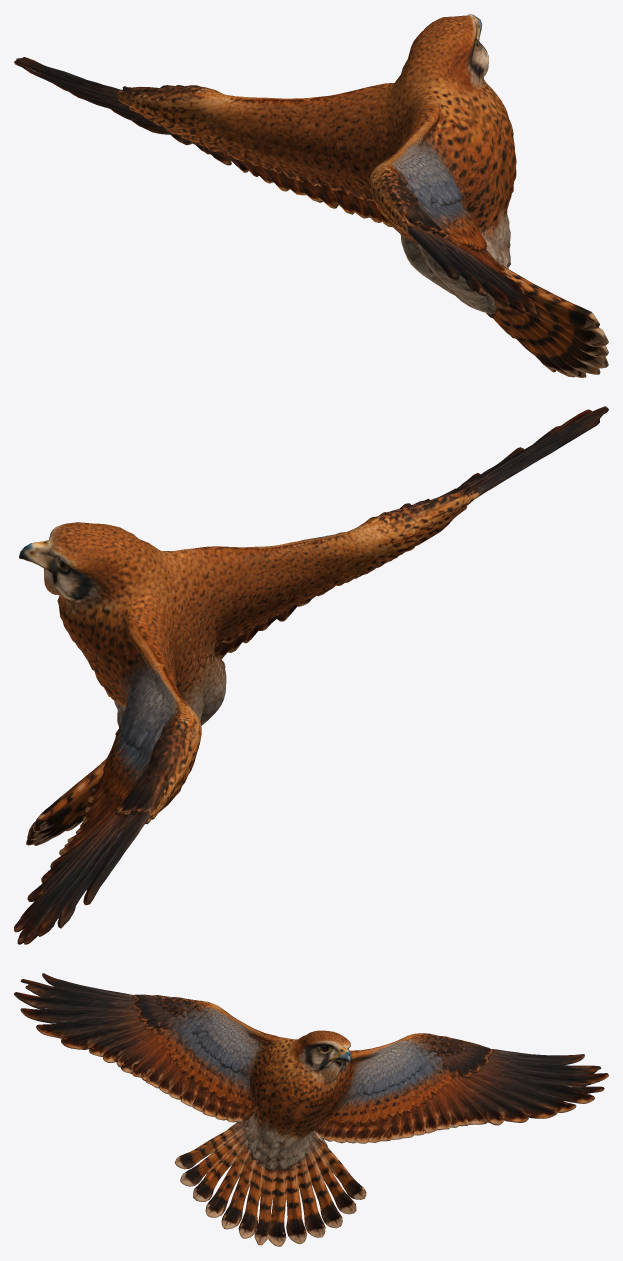
File: ember-kestrel.glb
The picture shows the model from 3 angles, top to bottom: view 1: azimuth 30°, elevation 25°; view 2: azimuth 150°, elevation 25°; view 3: azimuth 270°, elevation 25°; orthographic projection. The views are drawn at different scales.
Visible parts, largest first — view 1: tripo_node_4b230001-b1d8-419f-91e1-680063ba646e; view 2: tripo_node_4b230001-b1d8-419f-91e1-680063ba646e; view 3: tripo_node_4b230001-b1d8-419f-91e1-680063ba646e.
Boxes of the visible parts, x1,y1,x2,y2 form: tripo_node_4b230001-b1d8-419f-91e1-680063ba646e: [14, 14, 608, 377]; tripo_node_4b230001-b1d8-419f-91e1-680063ba646e: [14, 406, 608, 944]; tripo_node_4b230001-b1d8-419f-91e1-680063ba646e: [14, 973, 608, 1246].
Bounding box in the file's own units: 0.3539 × 0.3634 × 1.
Materials: 1 (1 with a texture image).
